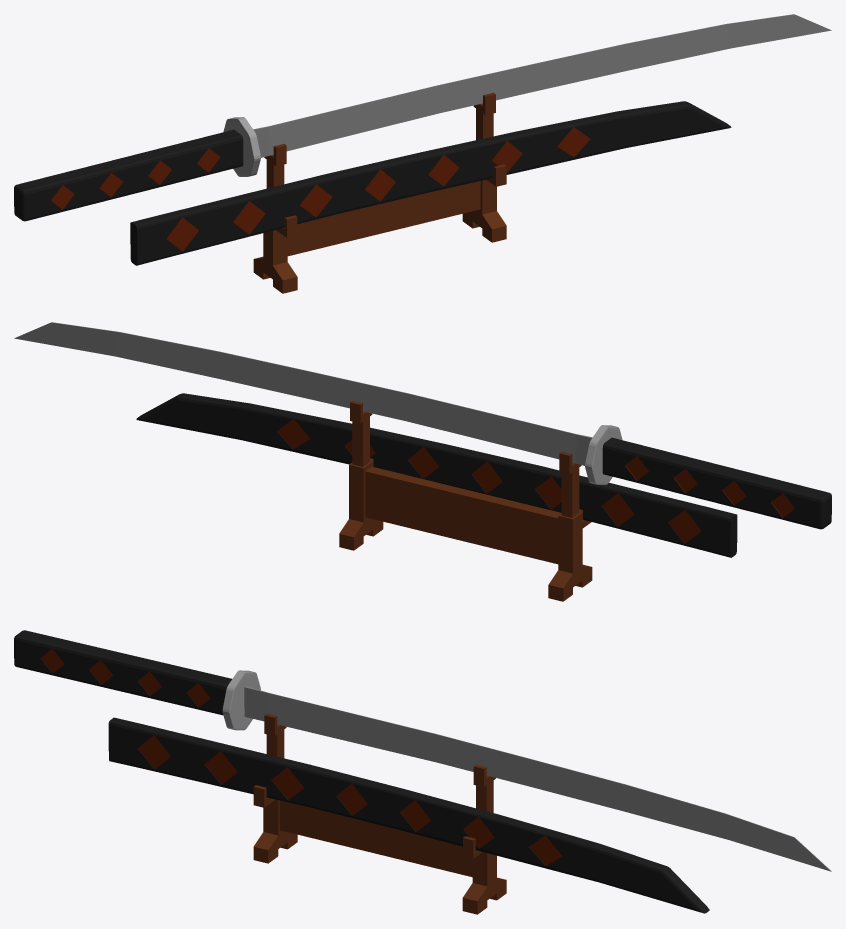
Rendered from Katana_02.fbx.
3 views of the same model, one above another, from view 1: azimuth 30°, elevation 25°; view 2: azimuth 150°, elevation 25°; view 3: azimuth 330°, elevation 25° (orthographic).
Visible parts, largest first — view 1: Katana_02; view 2: Katana_02; view 3: Katana_02.
Part boxes in pixels (x1,y1,x2,y2): Katana_02: (14, 14, 831, 293); Katana_02: (14, 322, 831, 601); Katana_02: (14, 630, 831, 914).
Size of the model in its own units: 119 by 24.01 by 8.27.
